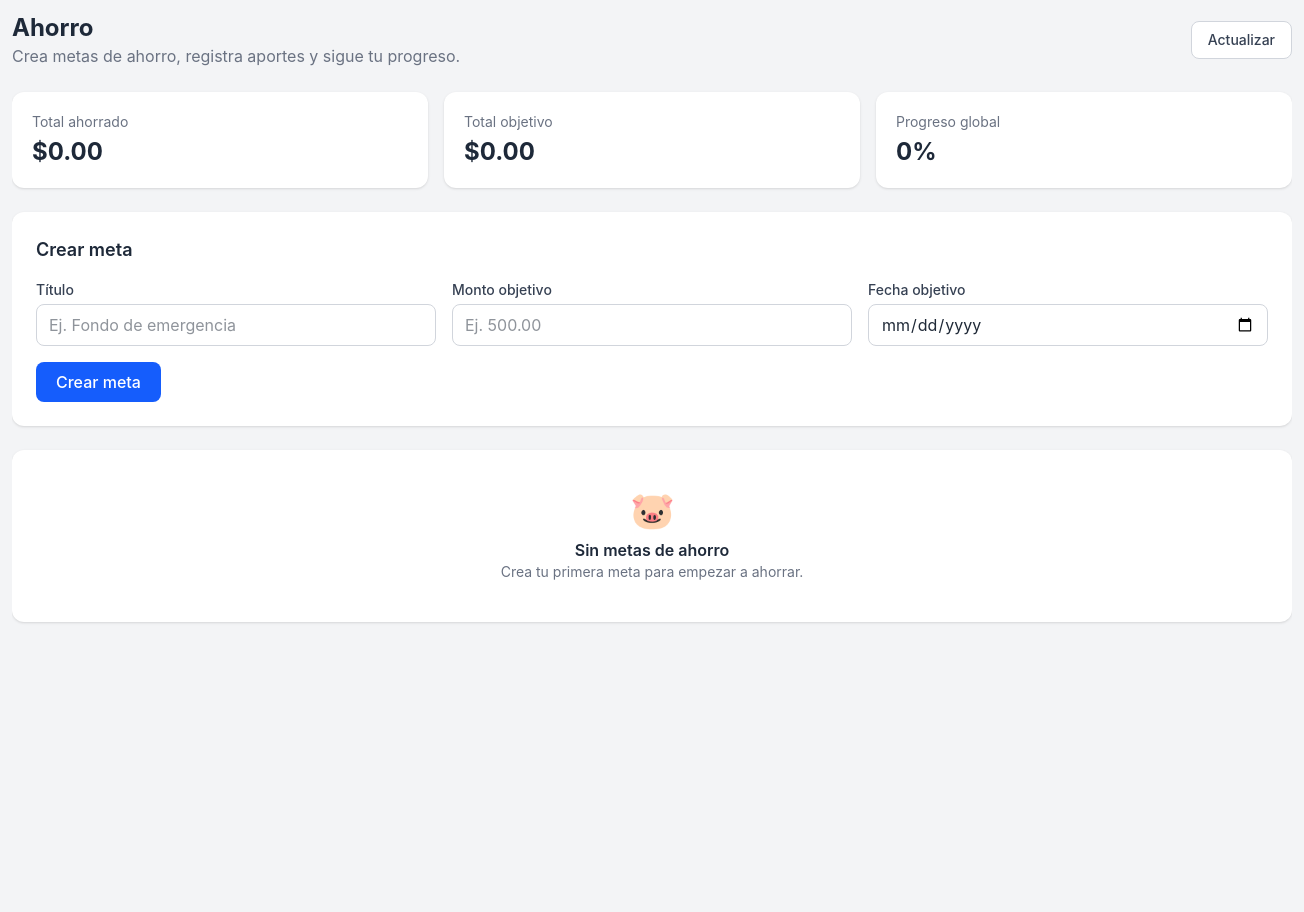
Test case: Ahorro › valida el monto objetivo antes de enviar
The width and height of the screenshot is (1304, 912).
Check: the text "Sin metas de ahorro" is shown, box [575,540,729,560]
Type "Meta" into the field labelled "Título".
click(236, 325); type("Meta")  # box [36,304,436,346]
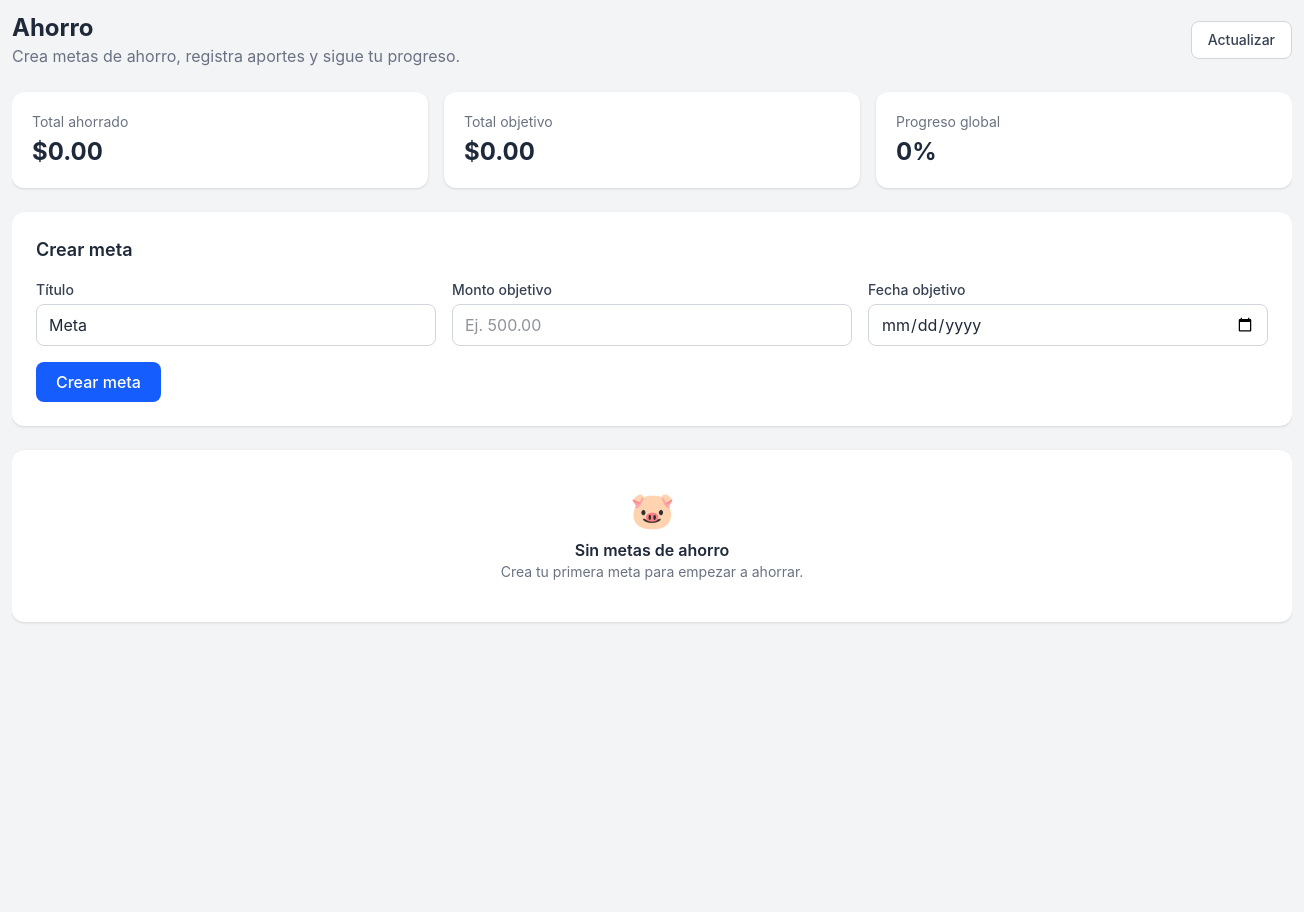
Click the button "Crear meta".
click(98, 382)  # box [36,362,161,402]
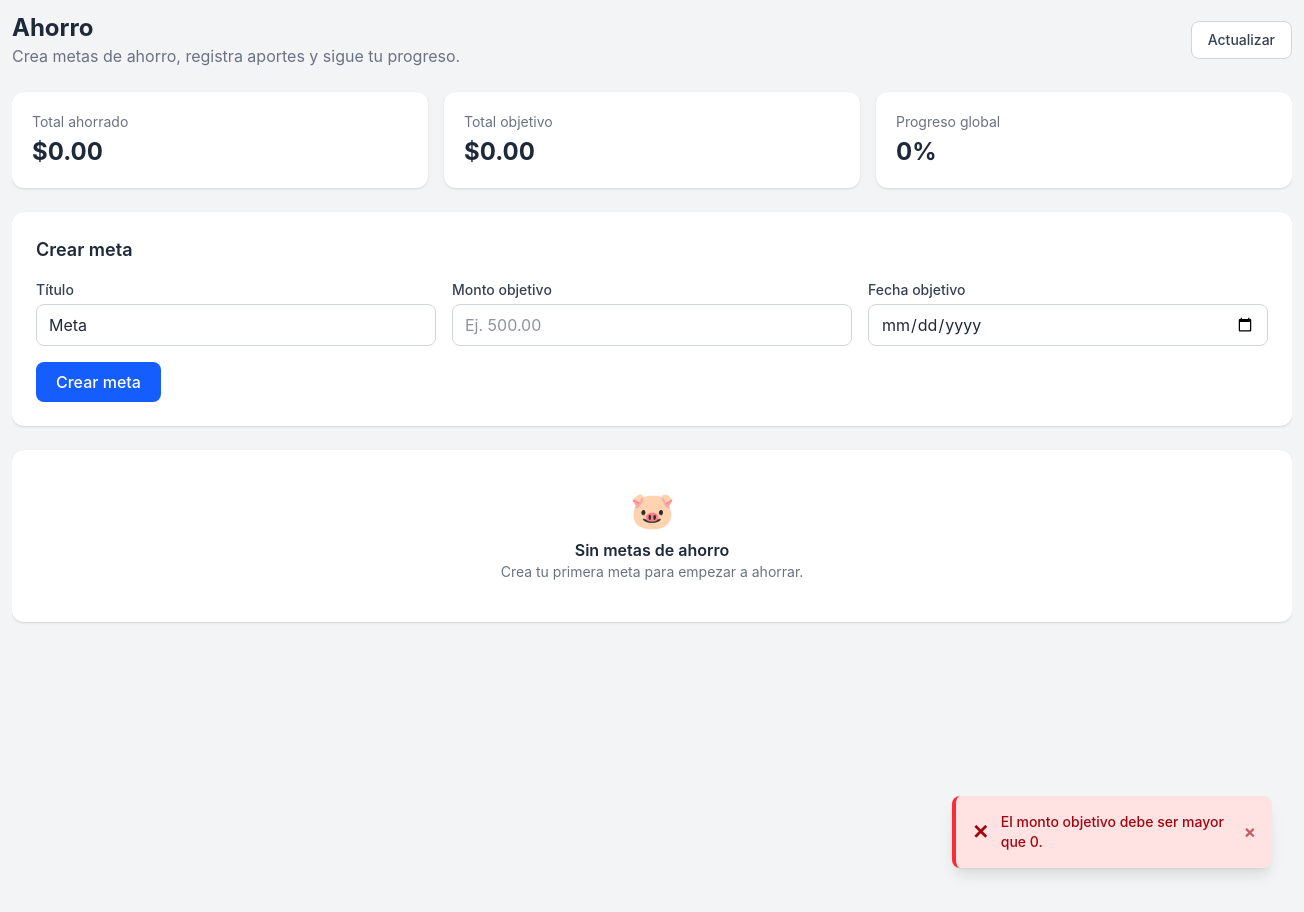
Check: the text "El monto objetivo debe ser mayor que 0." is shown, box [1001,812,1232,852]
